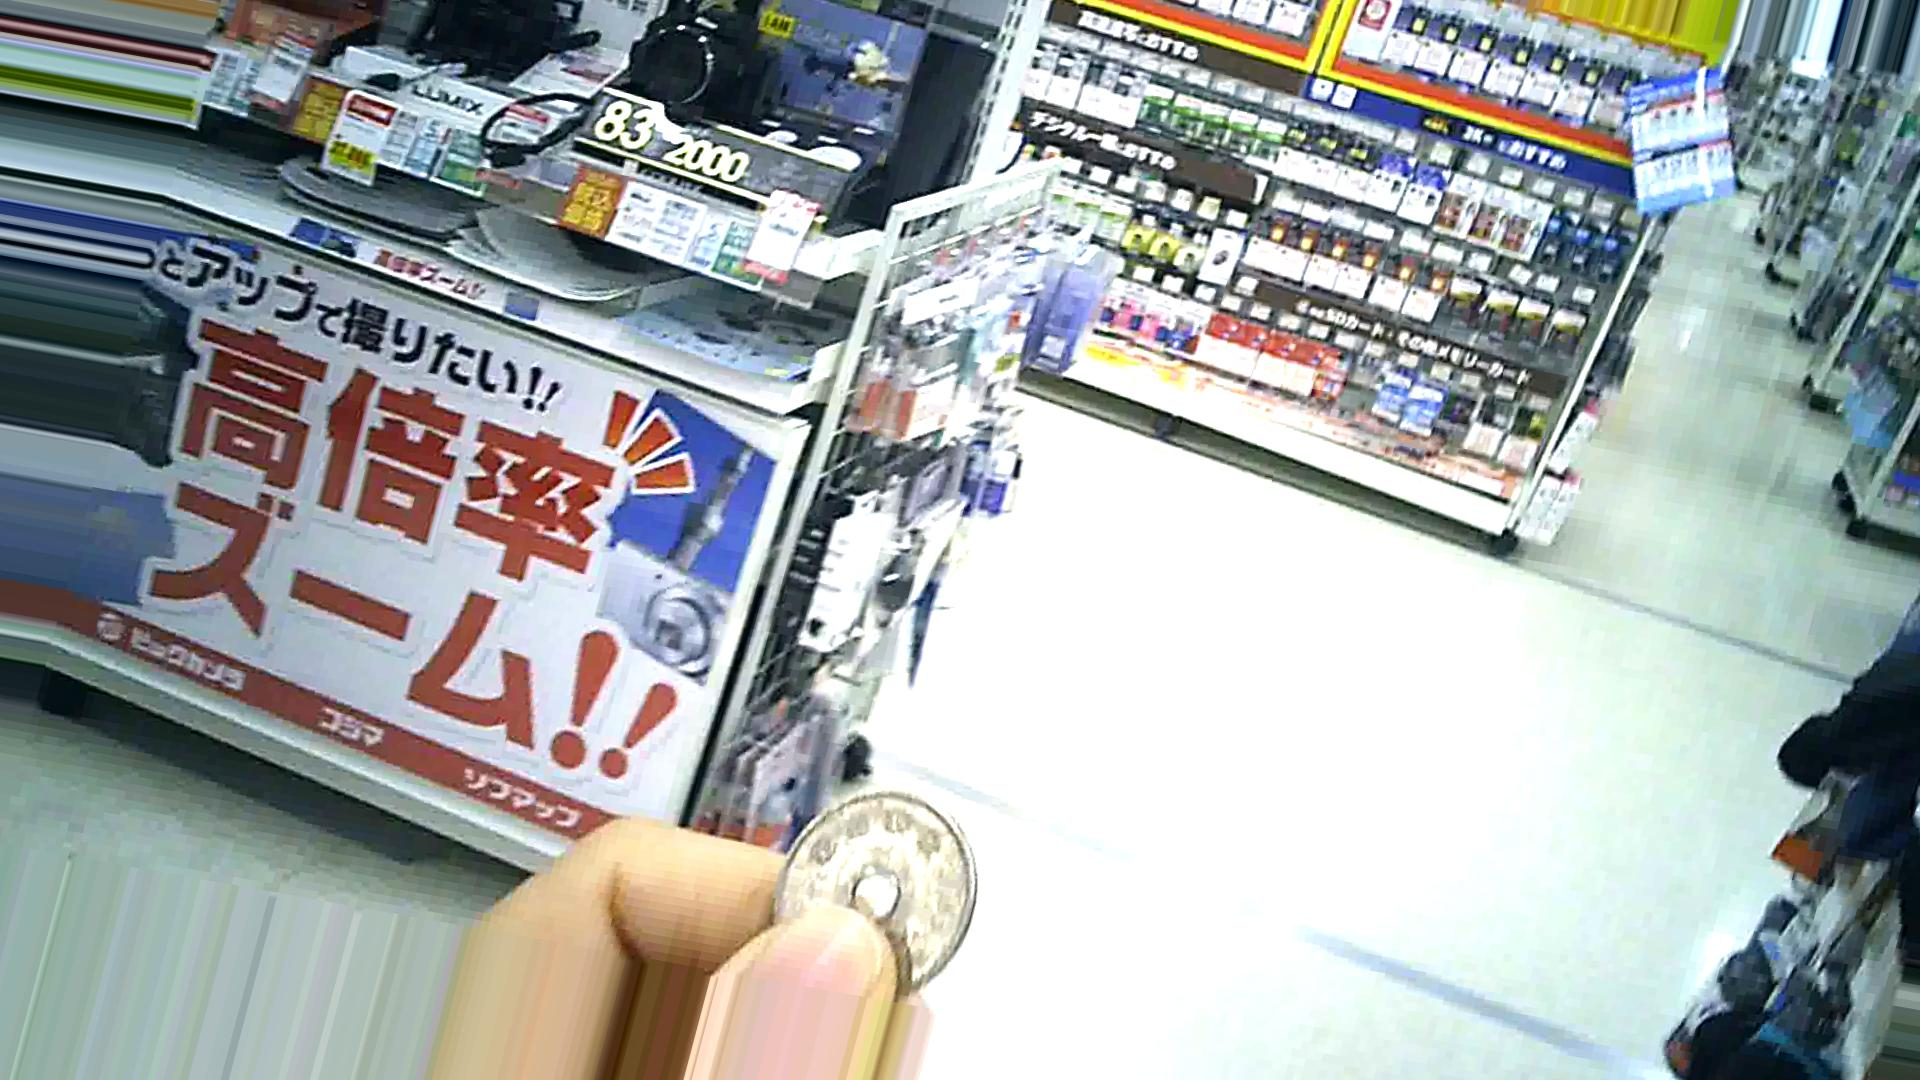50 Yen: (767, 779, 963, 978)
